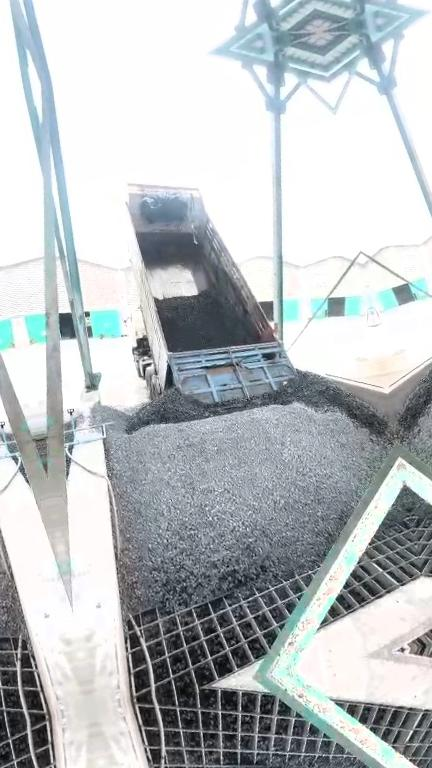gravel: (87, 371, 396, 611), (156, 290, 256, 351), (385, 485, 410, 525)
sand: (340, 354, 386, 387)
